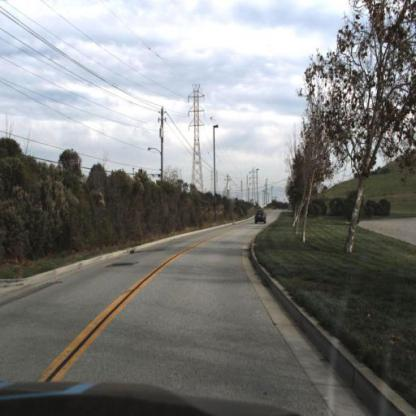car: (252, 207, 269, 226)
